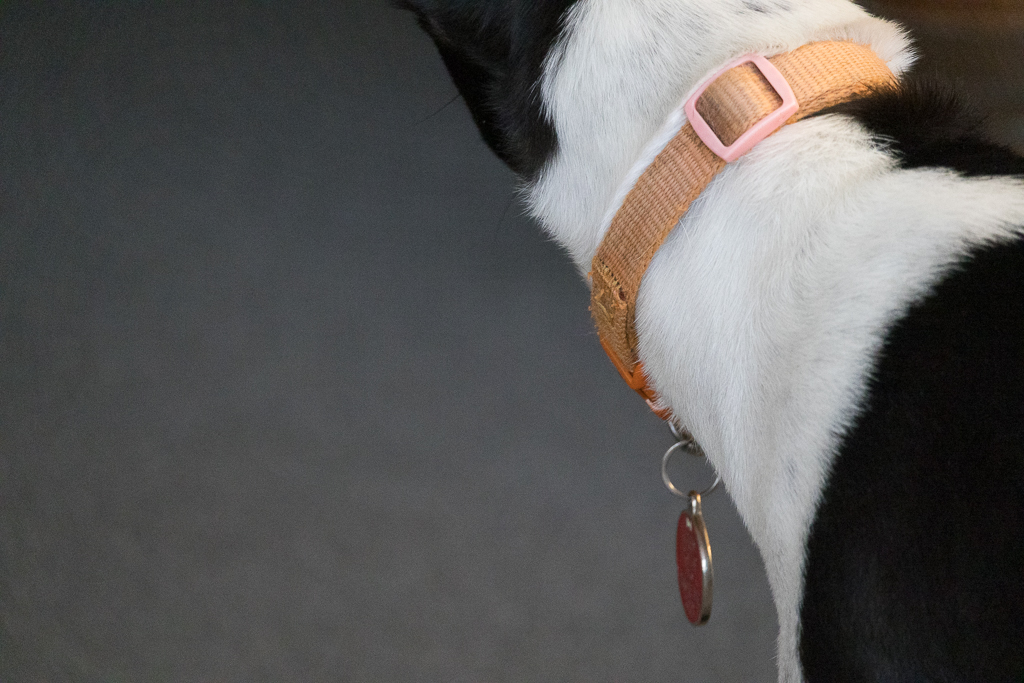Dog: (389, 0, 1024, 683)
